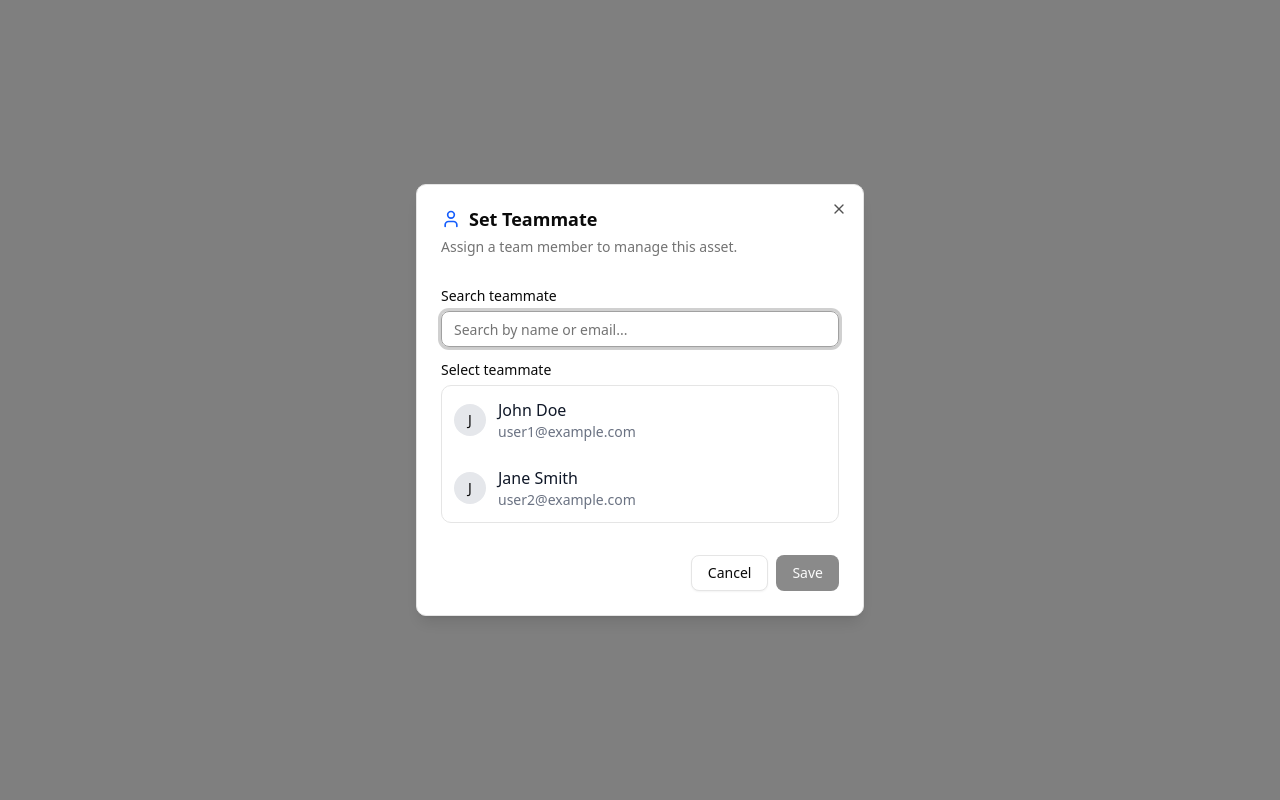
SetTeammateDialog › should filter users based on search query
Expected: the text "John Doe" is shown, [498, 399, 566, 421]
Type "Jane" into the field labelled "Search teammate".
click(640, 329); type("Jane")  # box [441, 311, 839, 347]
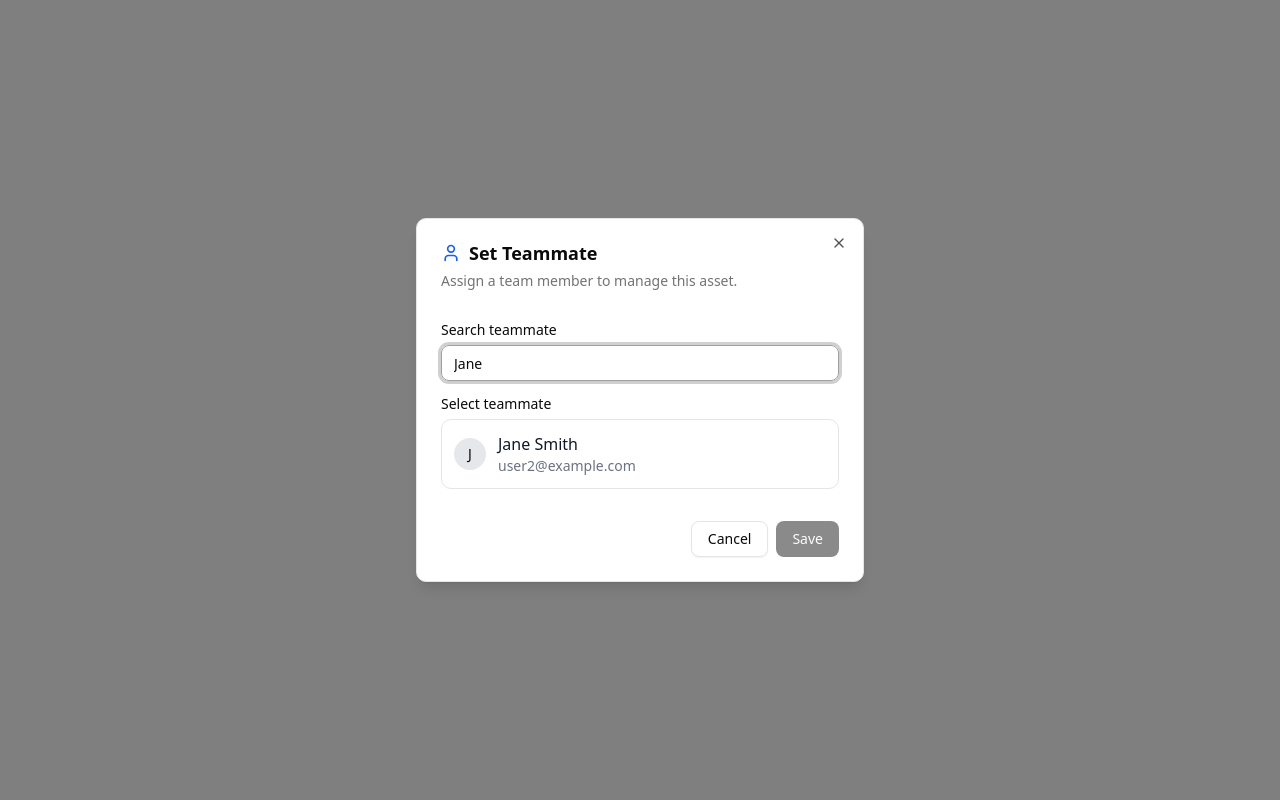
Expected: the text "Jane Smith" is shown, [498, 433, 578, 455]
Now the button "John Doe" is gone
